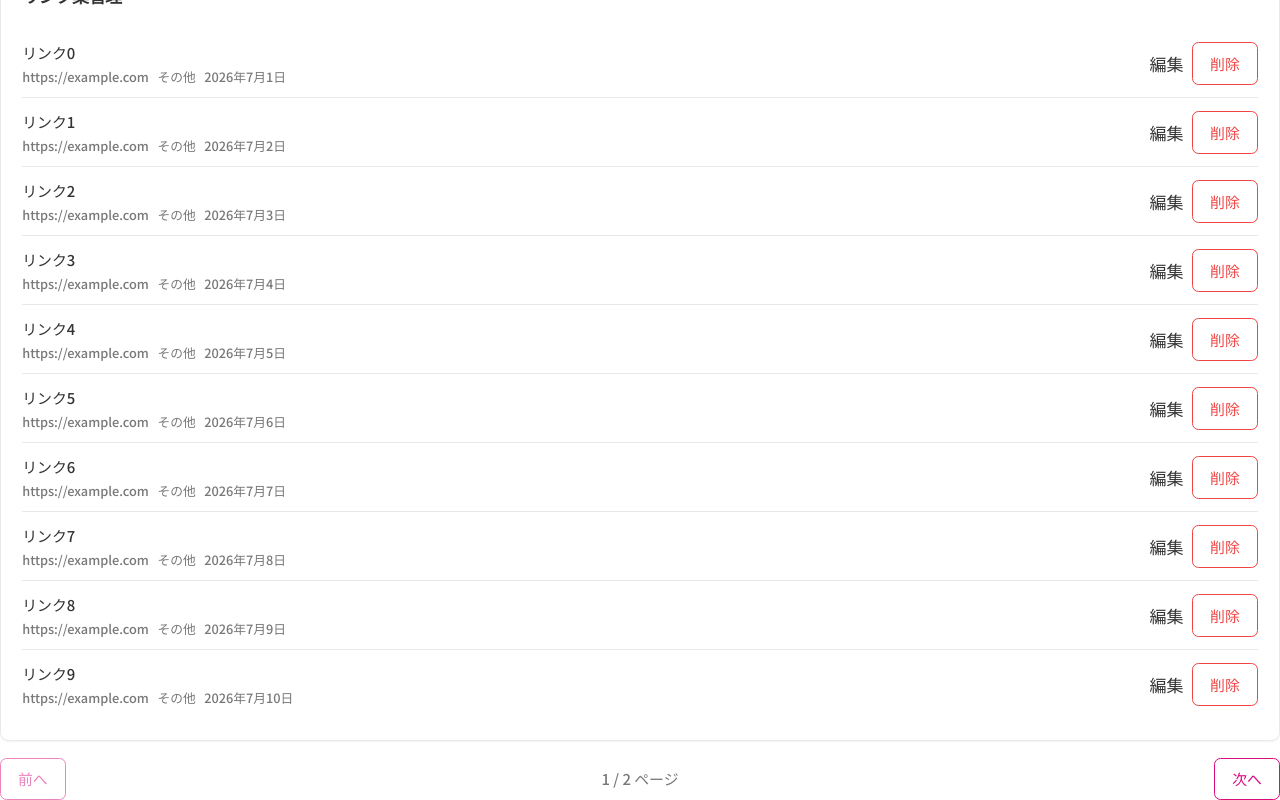
LinkManagementList › ページネーションで11件を超える一覧は10件ずつ表示される
This screenshot has width=1280, height=800.
(page scrolled)
Expected: the text "リンク0" is shown, left=22, top=42, right=75, bottom=63
Expected: the text "リンク10" is not shown
Click the button "次へ": (1247,779) left=1214, top=758, right=1279, bottom=799
(page scrolled)
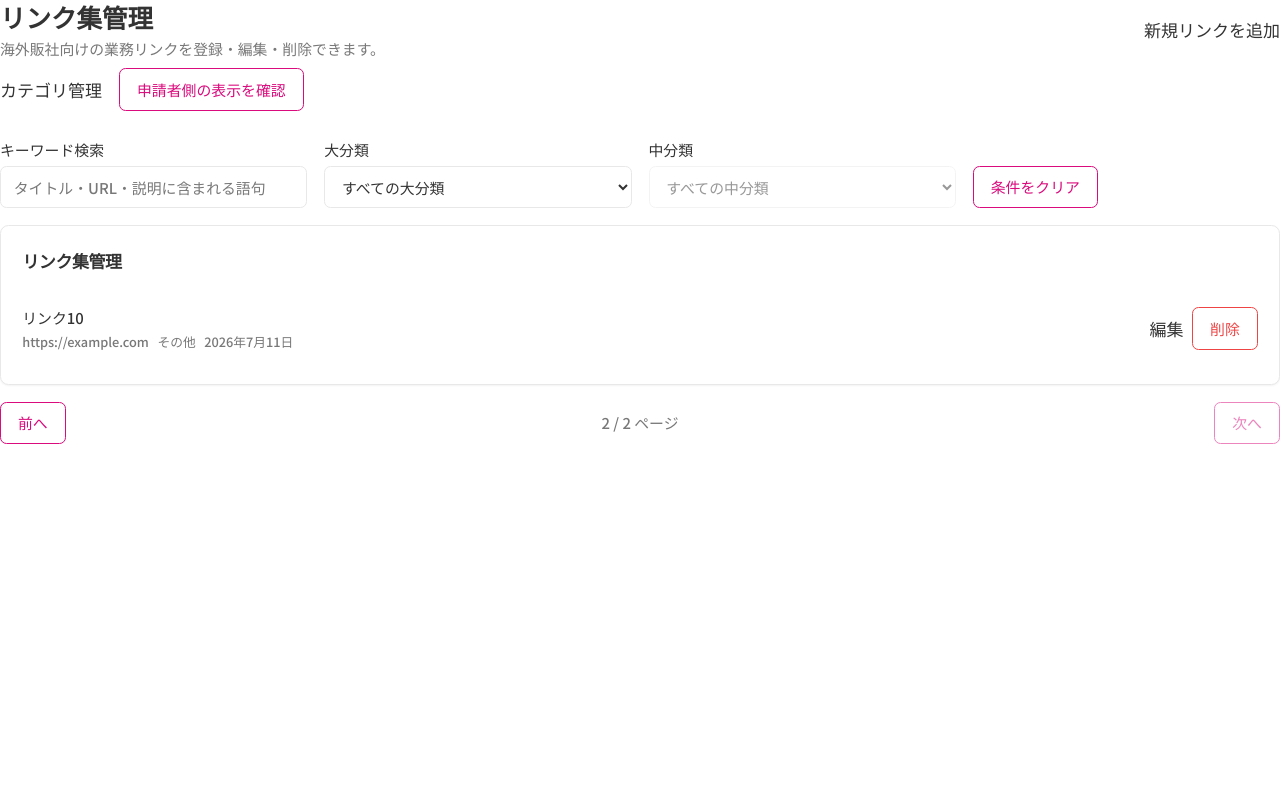
Now the text "リンク10" is shown, box left=22, top=307, right=84, bottom=328
